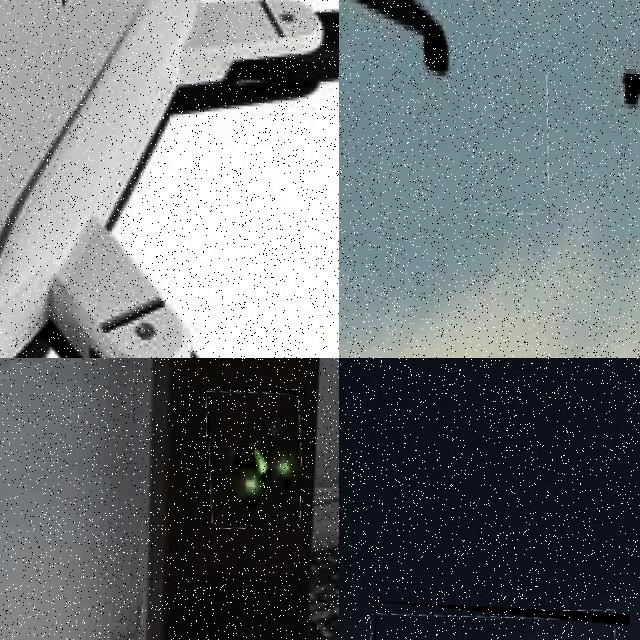drone: (0, 0, 339, 358), (339, 0, 562, 215), (202, 386, 306, 532)
